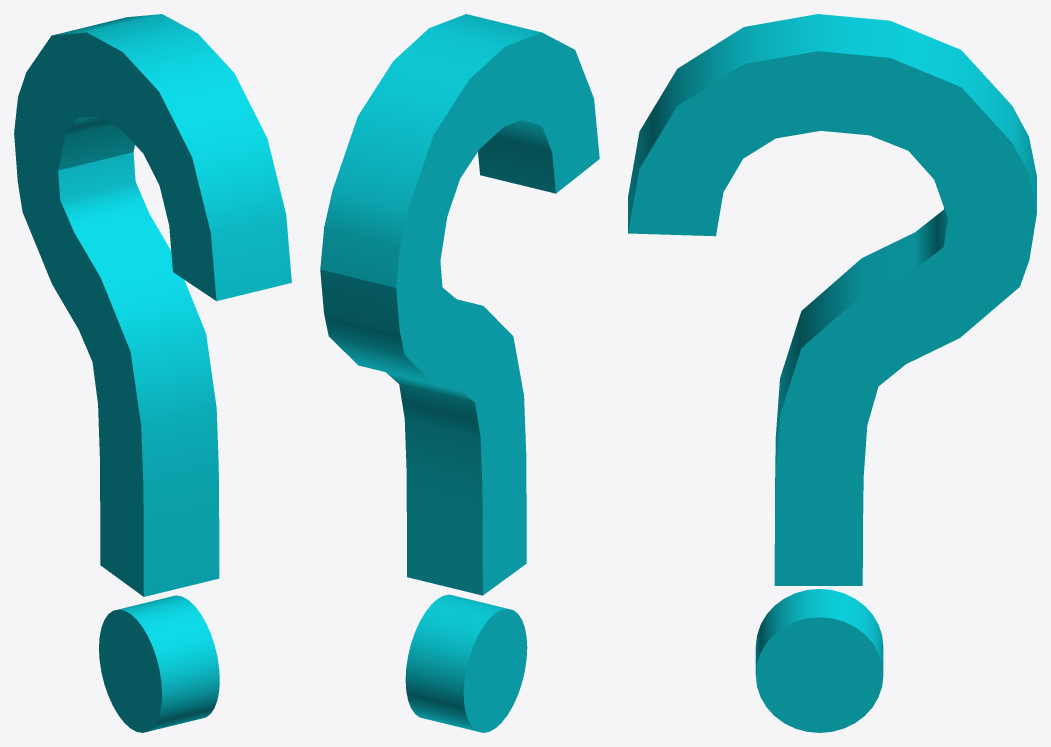
File: Question.fbx
3 views of the same model, side by side, from view 1: azimuth 30°, elevation 25°; view 2: azimuth 150°, elevation 25°; view 3: azimuth 270°, elevation 25° (orthographic).
Parts seen in each view (by area): view 1: 立方体, 円柱; view 2: 立方体, 円柱; view 3: 立方体, 円柱.
Boxes of the visible parts, box(x1,y1,x2,y2) form: 立方体: box(14, 14, 291, 596); 円柱: box(99, 595, 219, 732); 立方体: box(320, 14, 599, 595); 円柱: box(405, 594, 527, 732); 立方体: box(628, 14, 1036, 585); 円柱: box(755, 589, 883, 732).
Size of the model in its own units: 60.19 by 518 by 280.
